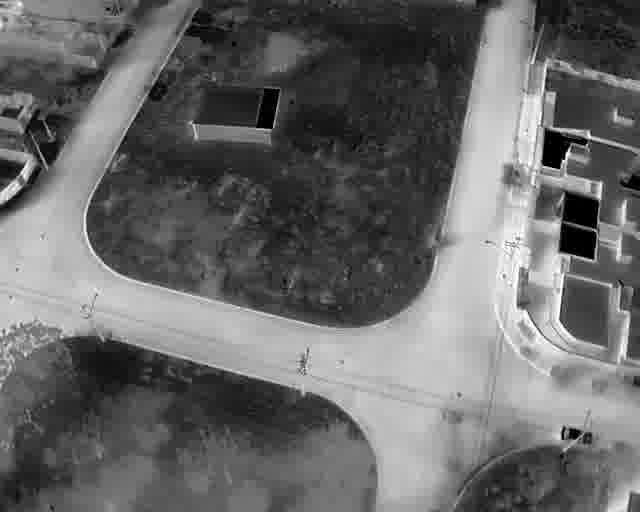car: (561, 425, 593, 442)
